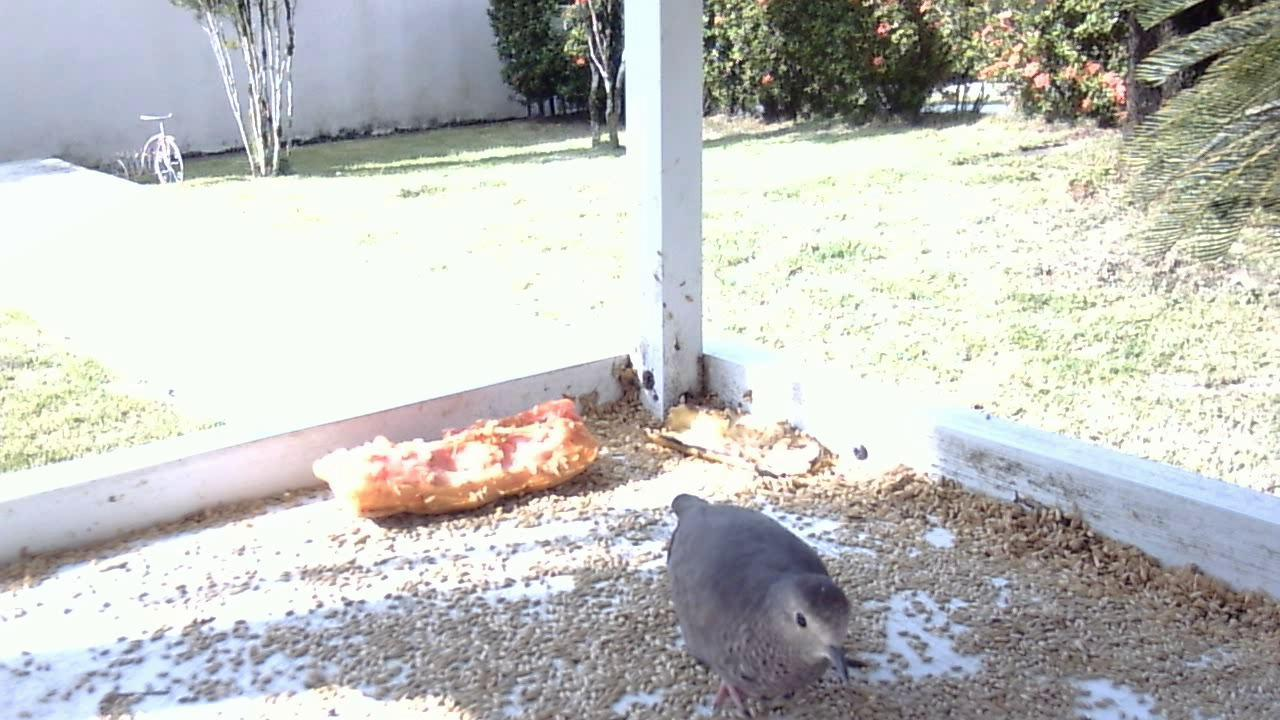rolinha: (654, 483, 868, 716)
